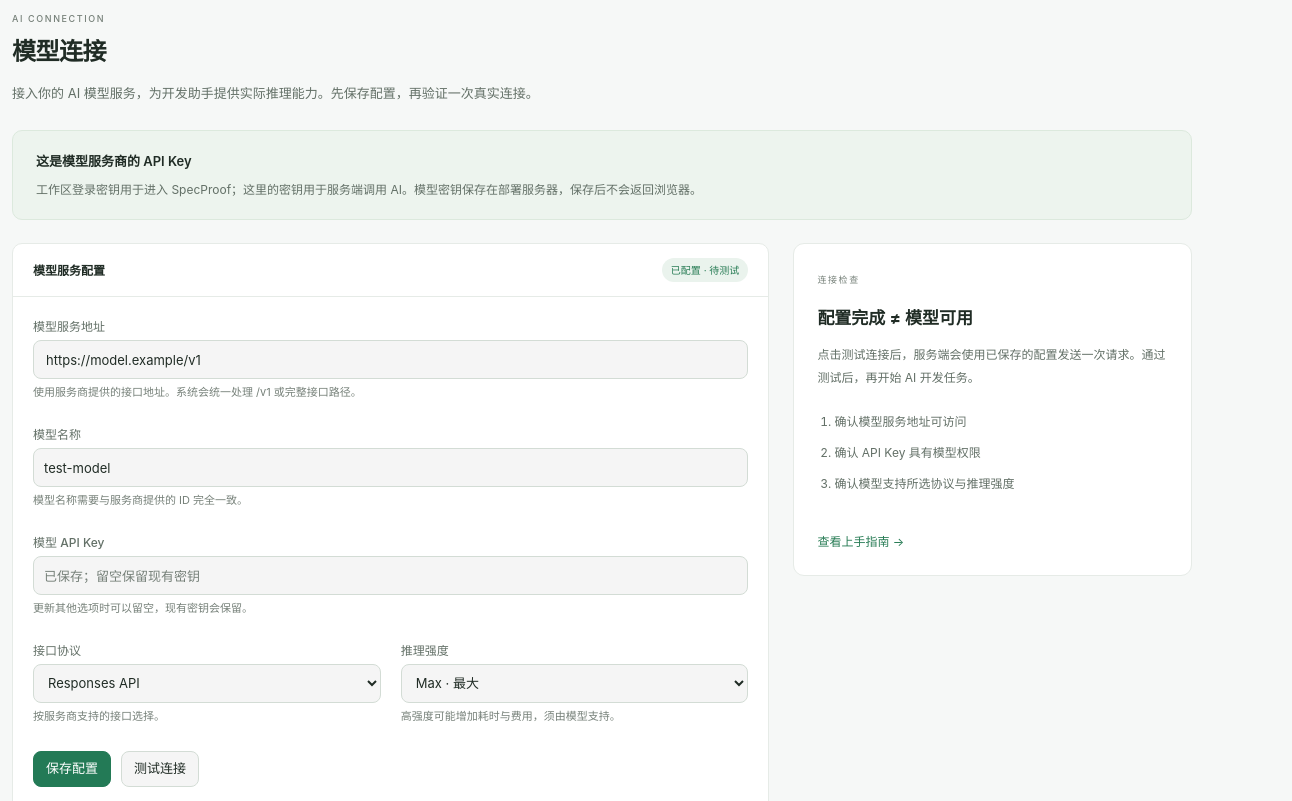
Test: model connection settings › keeps the server secret masked and saves all selected model options
Expected: the password field labelled "模型 API Key" is empty, [33,556,748,595]
Replace the text in the field labelled "模型名称" with "updated-model" at [391, 468], box [33,448,748,487]
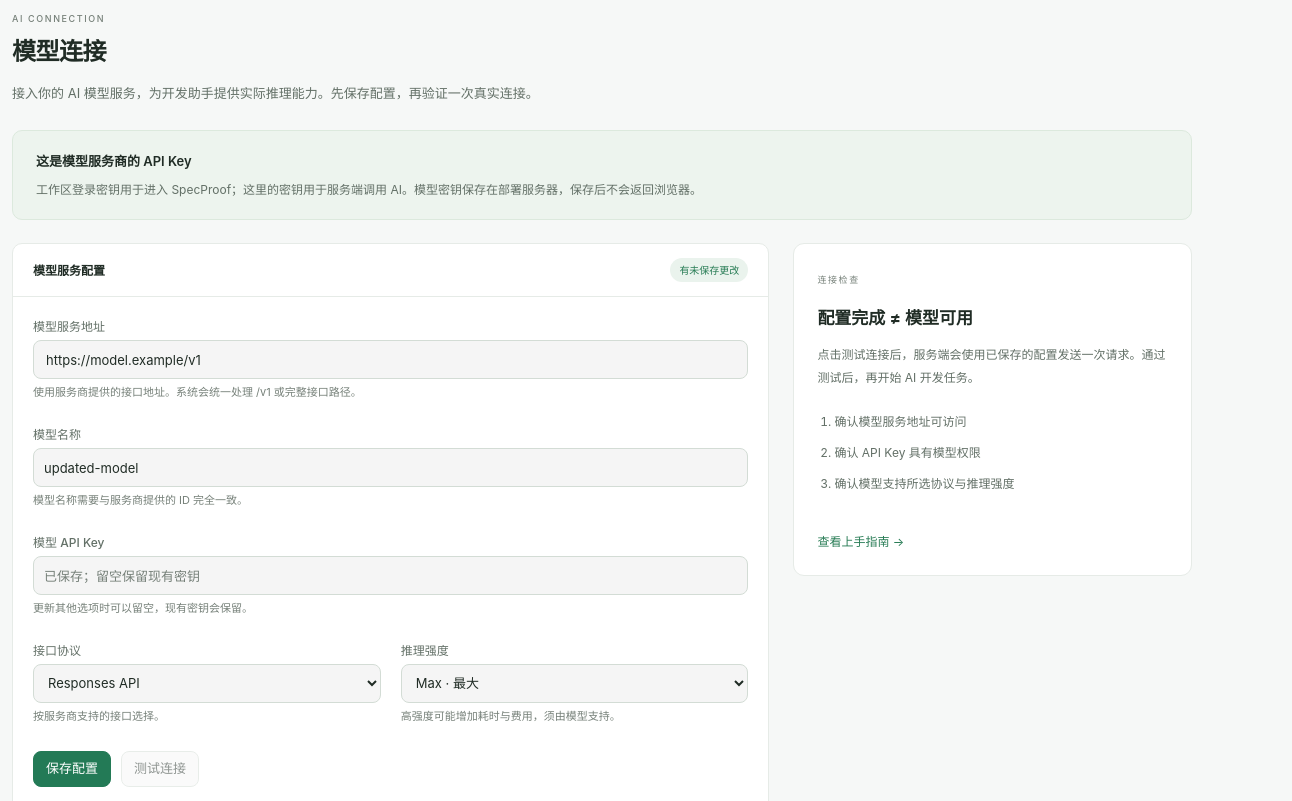
Type "secret-value" into the password field labelled "模型 API Key".
click(391, 576); type("secret-value")  # box [33,556,748,595]
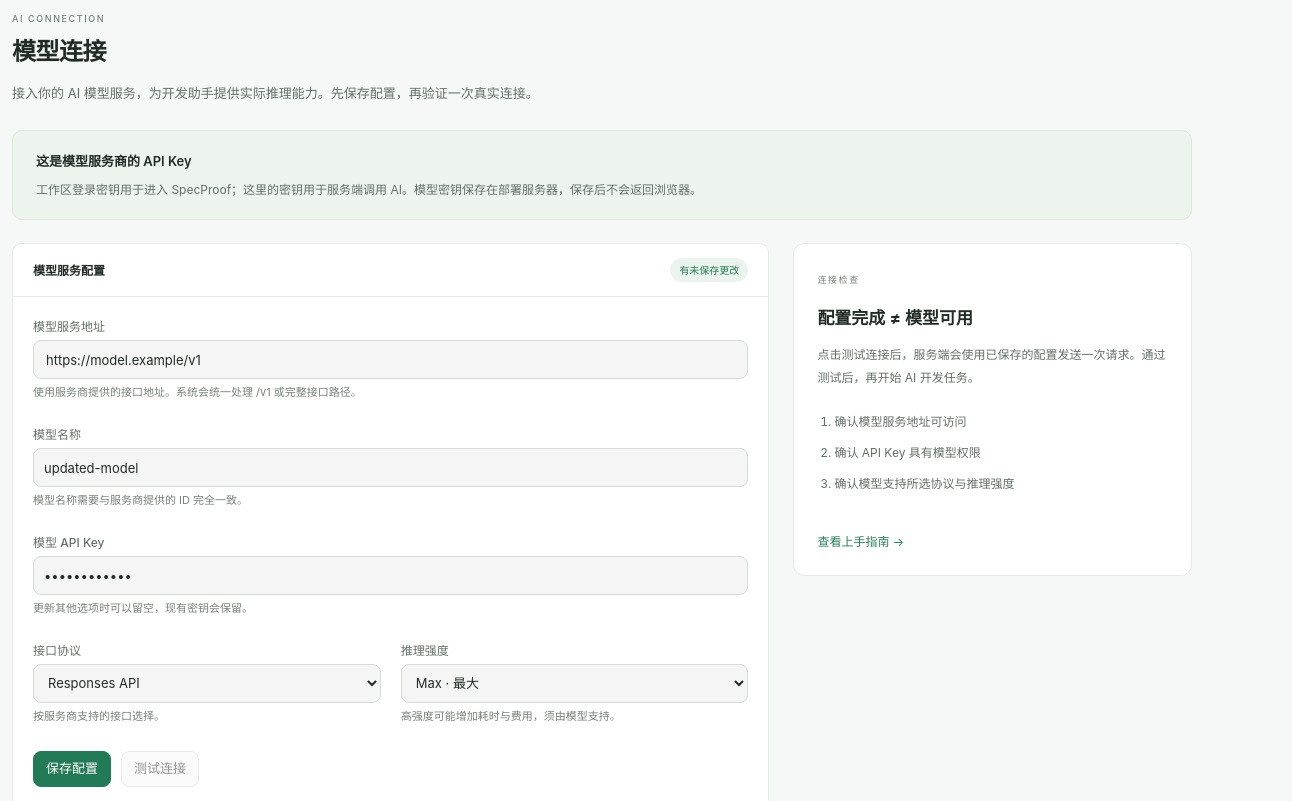
Expected: the button "测试连接" is disabled, [121,751,199,787]
Click the button "保存配置".
click(72, 769)  # box [33,751,111,787]
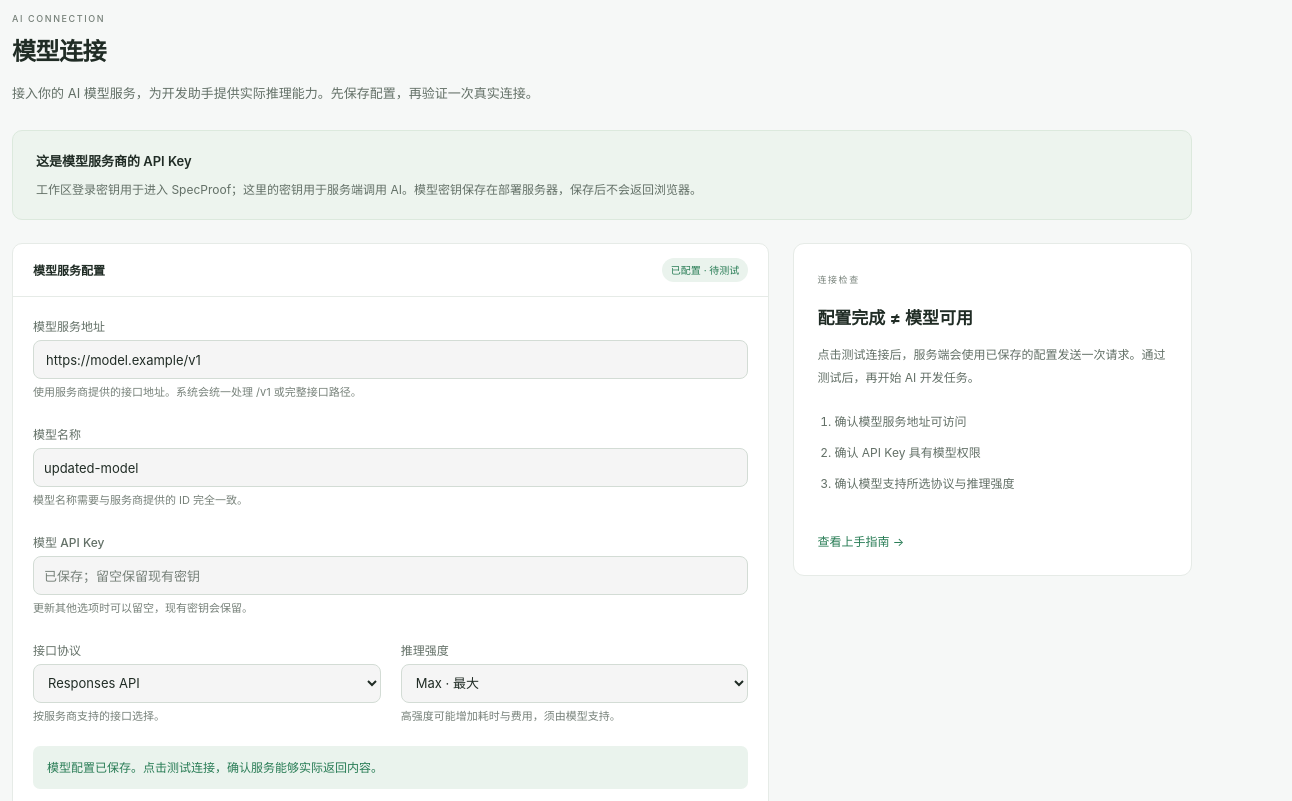
Expected: the text "模型配置已保存。点击测试连接，确认服务能够实际返回内容。" is shown, [33,746,748,789]
Expected: the password field labelled "模型 API Key" is empty, [33,556,748,595]
